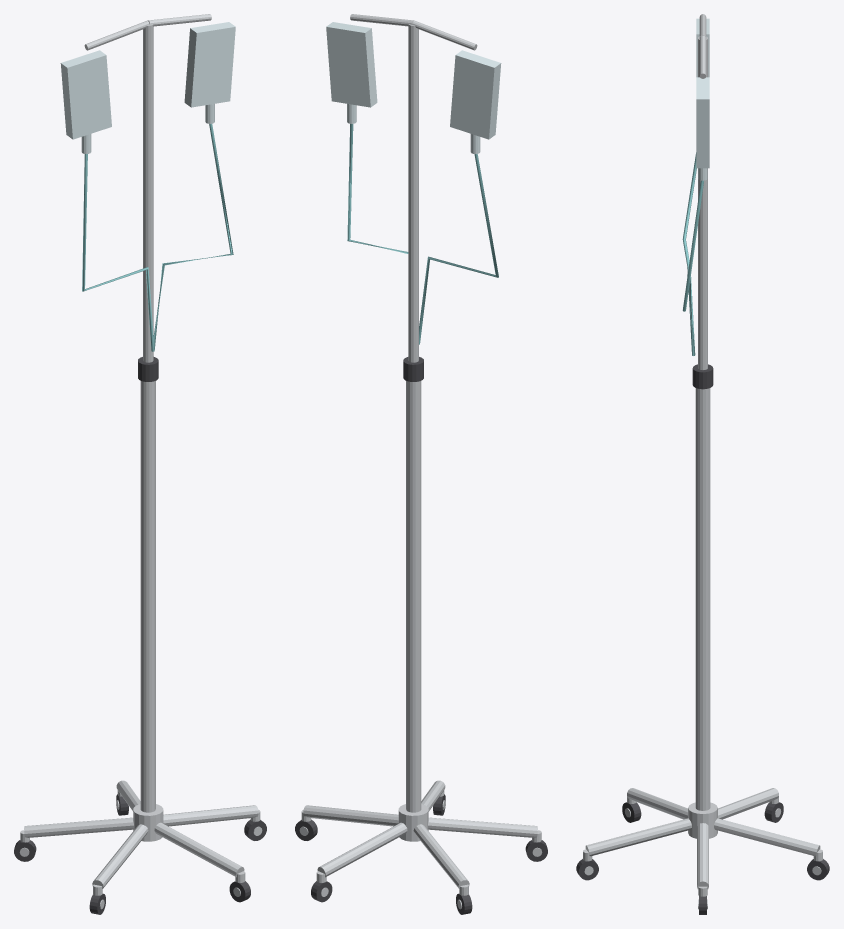
Rendered from operatingRoom_ringer.fbx.
3 renders of one model, left to right at view 1: azimuth 30°, elevation 25°; view 2: azimuth 150°, elevation 25°; view 3: azimuth 270°, elevation 25°, orthographic. The views are drawn at different scales.
Visible parts, largest first — view 1: 09_HamperAndIV_Intact_IVStand; view 2: 09_HamperAndIV_Intact_IVStand; view 3: 09_HamperAndIV_Intact_IVStand.
Part boxes in pixels (x1,y1,x2,y2): 09_HamperAndIV_Intact_IVStand: (14, 14, 266, 914); 09_HamperAndIV_Intact_IVStand: (295, 14, 547, 914); 09_HamperAndIV_Intact_IVStand: (576, 14, 829, 914).
Bounding box in the file's own units: 51.61 × 196 × 54.26.
